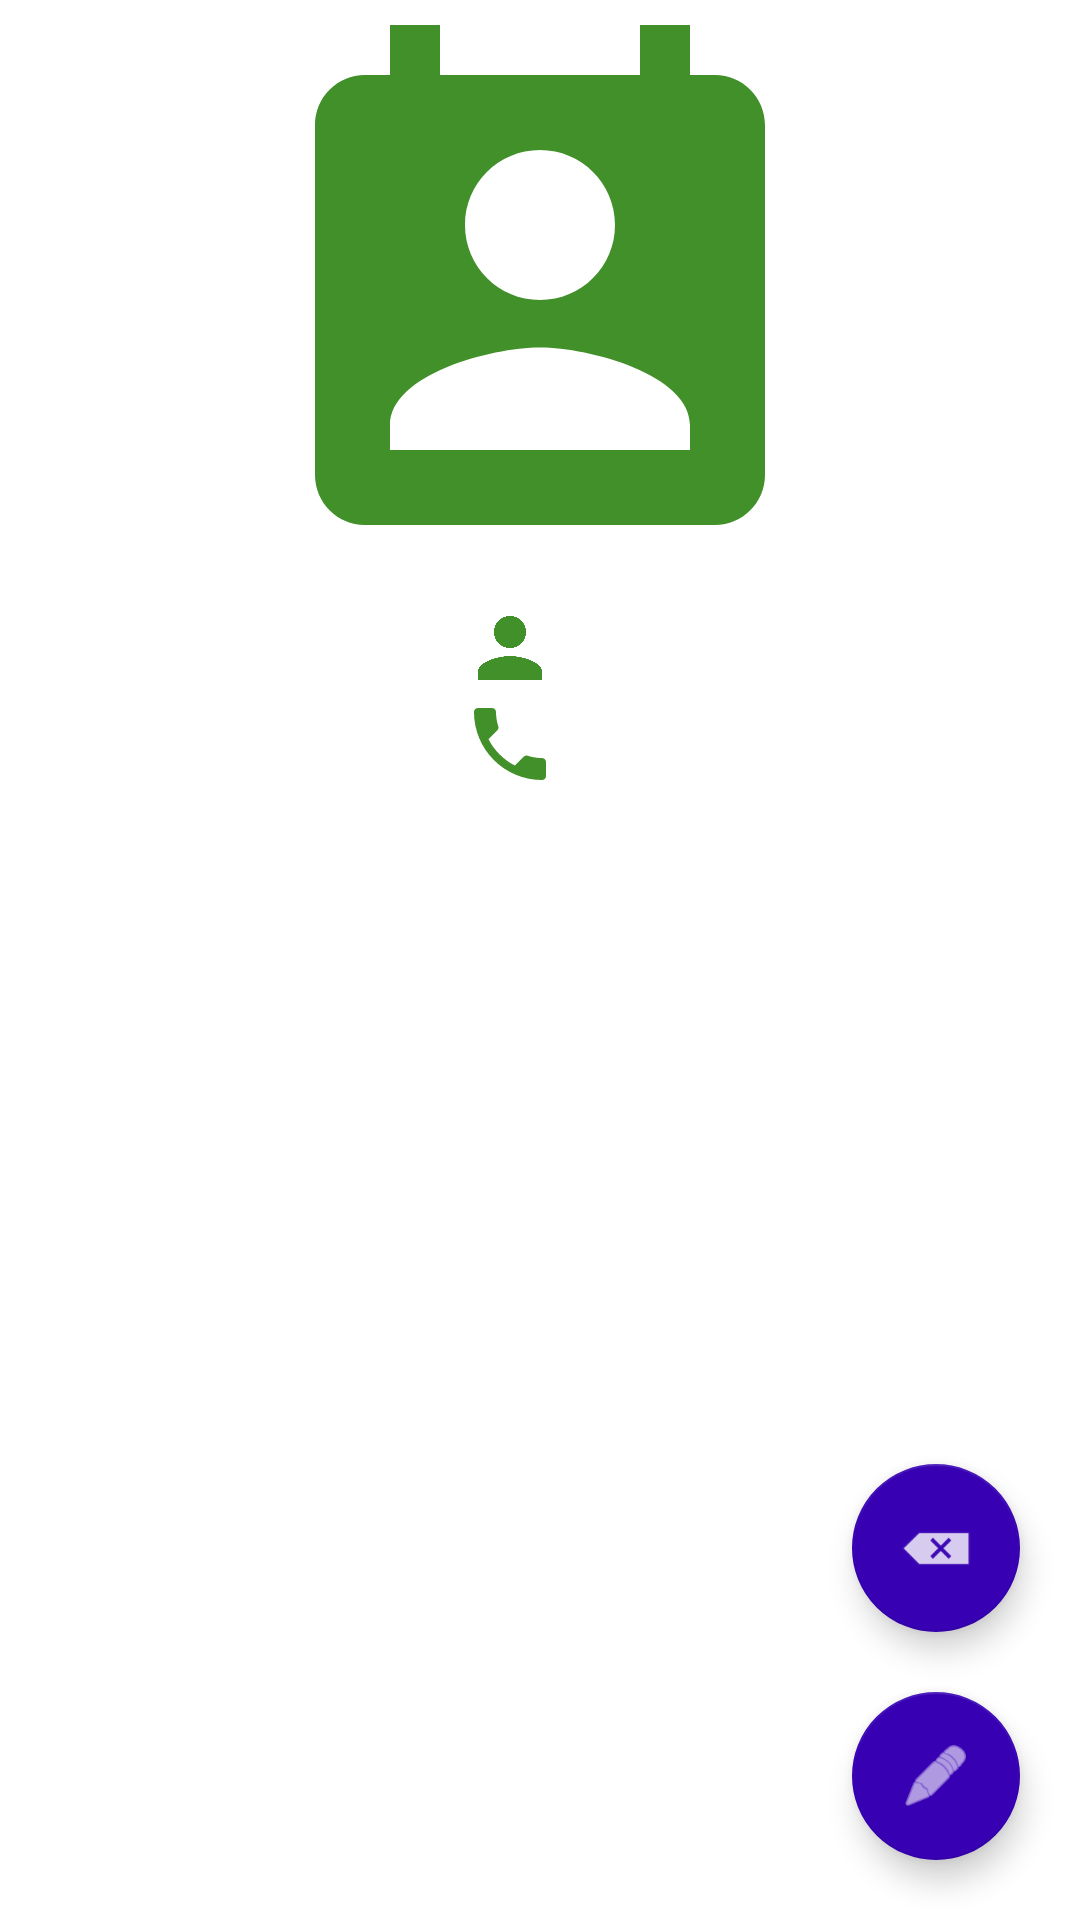

Icon click points for this 1080x1920 phone screenshot, format (x=x, y=y):
delete: (x=936, y=1548)
edit: (x=936, y=1776)
local phone: (x=510, y=744)
person: (x=510, y=648)
